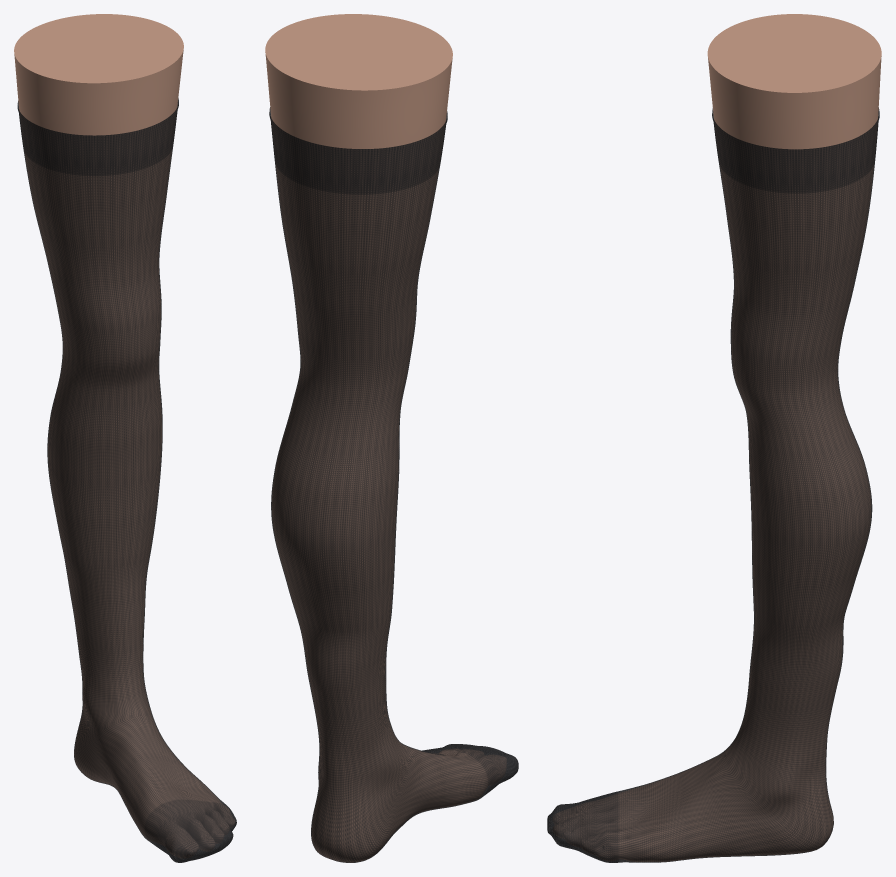
Rendered from leg.glb.
The picture shows the model from 3 angles, left to right: view 1: azimuth 30°, elevation 25°; view 2: azimuth 150°, elevation 25°; view 3: azimuth 270°, elevation 25°; orthographic projection. The views are drawn at different scales.
Visible parts, largest first — view 1: Leg, Stocking; view 2: Leg, Stocking; view 3: Leg, Stocking.
Boxes of the visible parts, x1=… form: Leg: x1=14, y1=14, x2=234, y2=857; Stocking: x1=17, y1=98, x2=236, y2=862; Leg: x1=265, y1=14, x2=506, y2=862; Stocking: x1=269, y1=107, x2=518, y2=862; Leg: x1=553, y1=14, x2=881, y2=861; Stocking: x1=547, y1=107, x2=879, y2=862.
Size of the model in its own units: 0.1616 by 0.7546 by 0.2891.
Materials: 2 (1 with a texture image).
